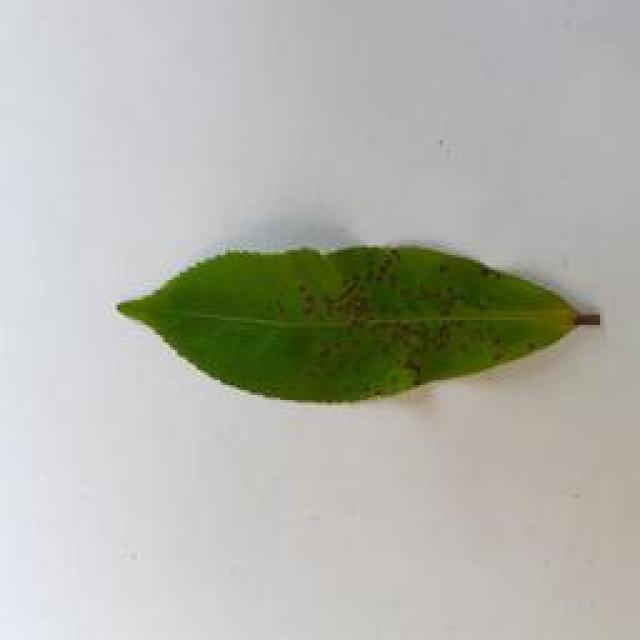Helopeltis: (108, 237, 612, 402)
